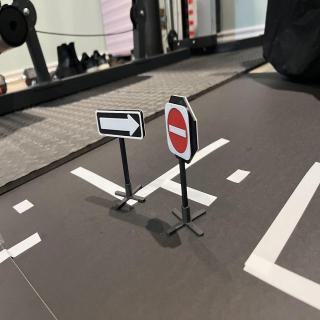sign_noentry: (165, 103, 193, 167)
sign_oneway_right: (97, 109, 149, 141)
